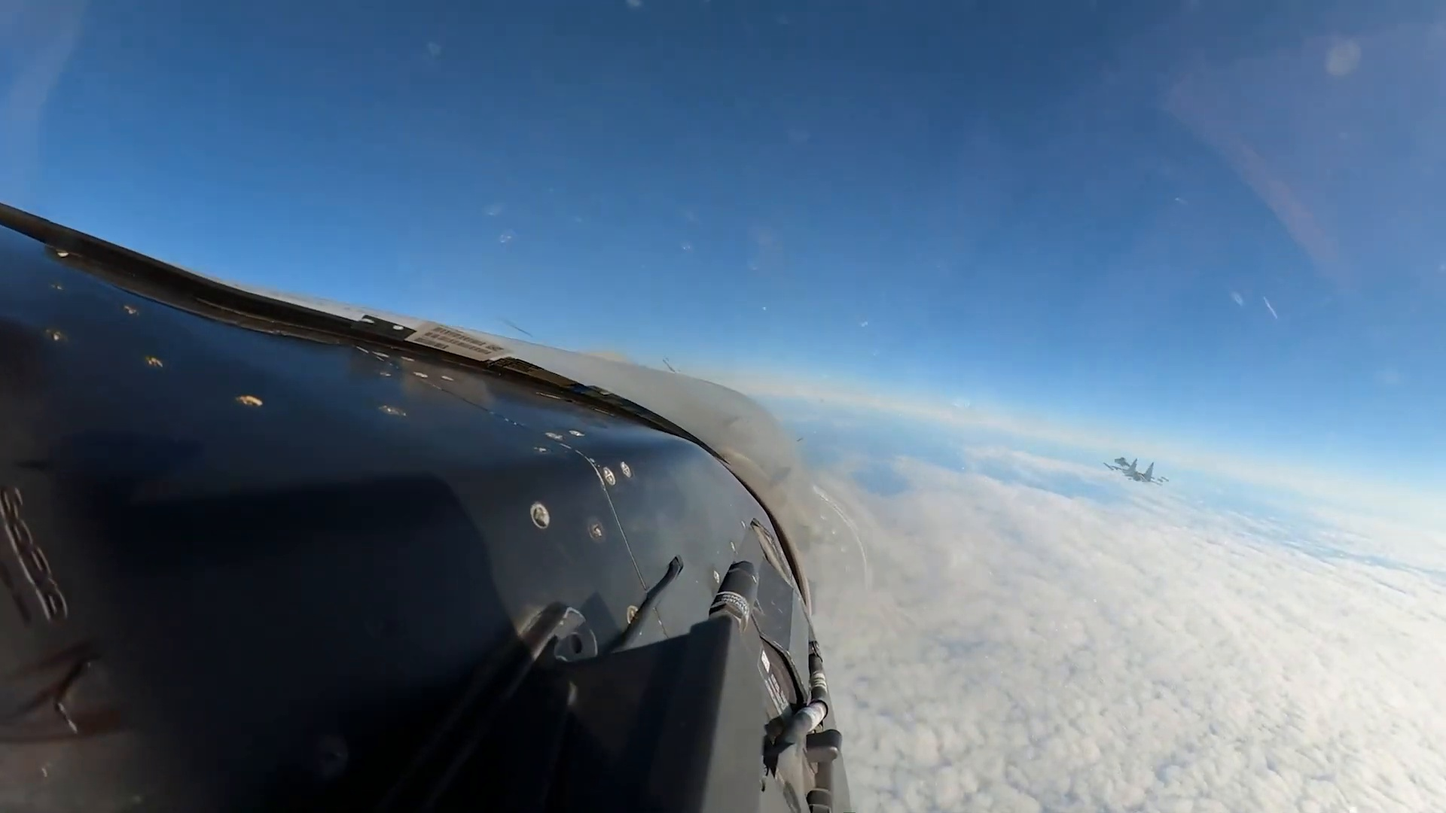Su35: (1102, 456, 1168, 485)
